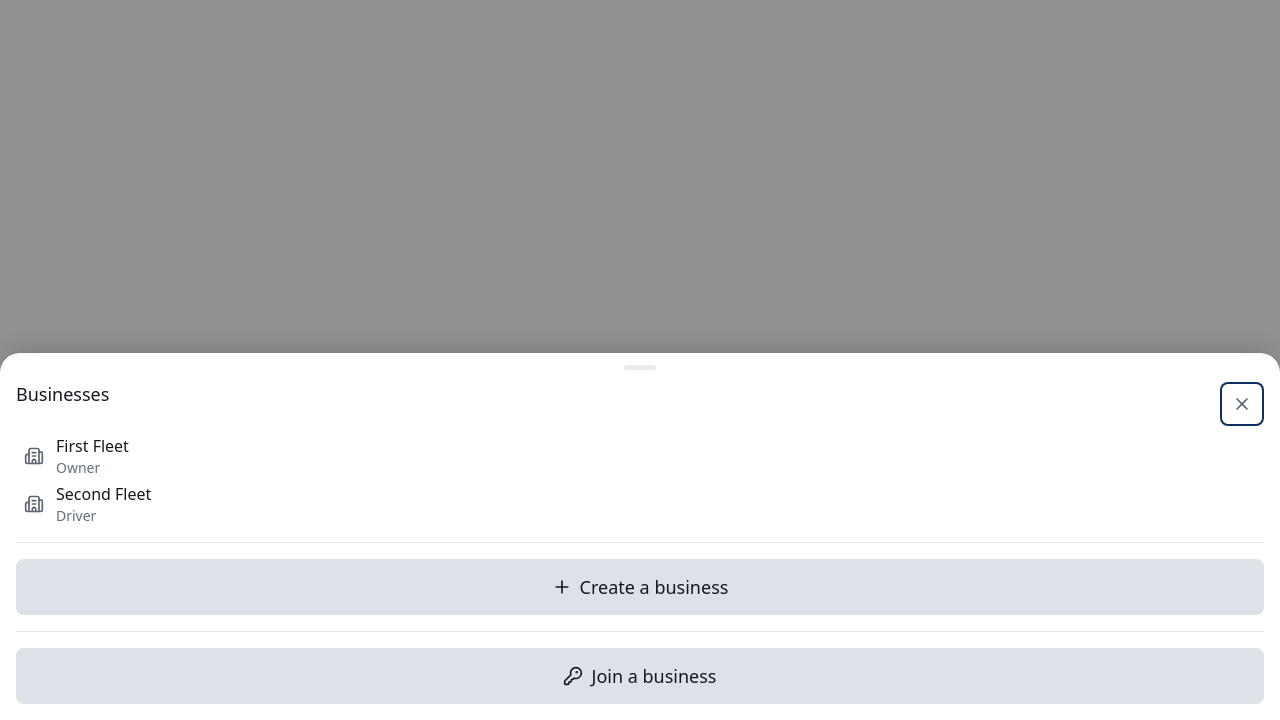
Test: GAP-157: opening Join a business collapses an already-open Create a business, and vice versa
The image size is (1280, 720).
Click the button "Create a business": (640, 587) [16,559,1264,615]
(page scrolled)
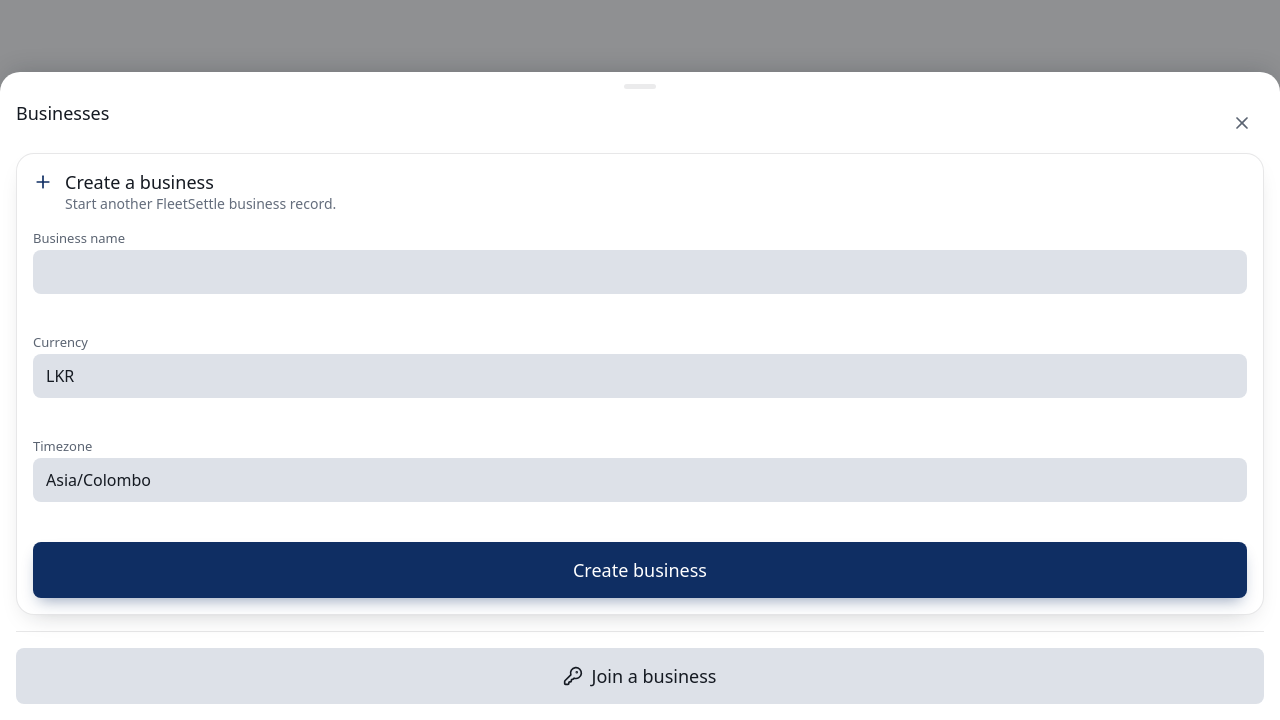
Now the field labelled "Business name" is shown, box [33,250,1247,294]
Click the button "Join a business": (640, 676) [16,648,1264,704]
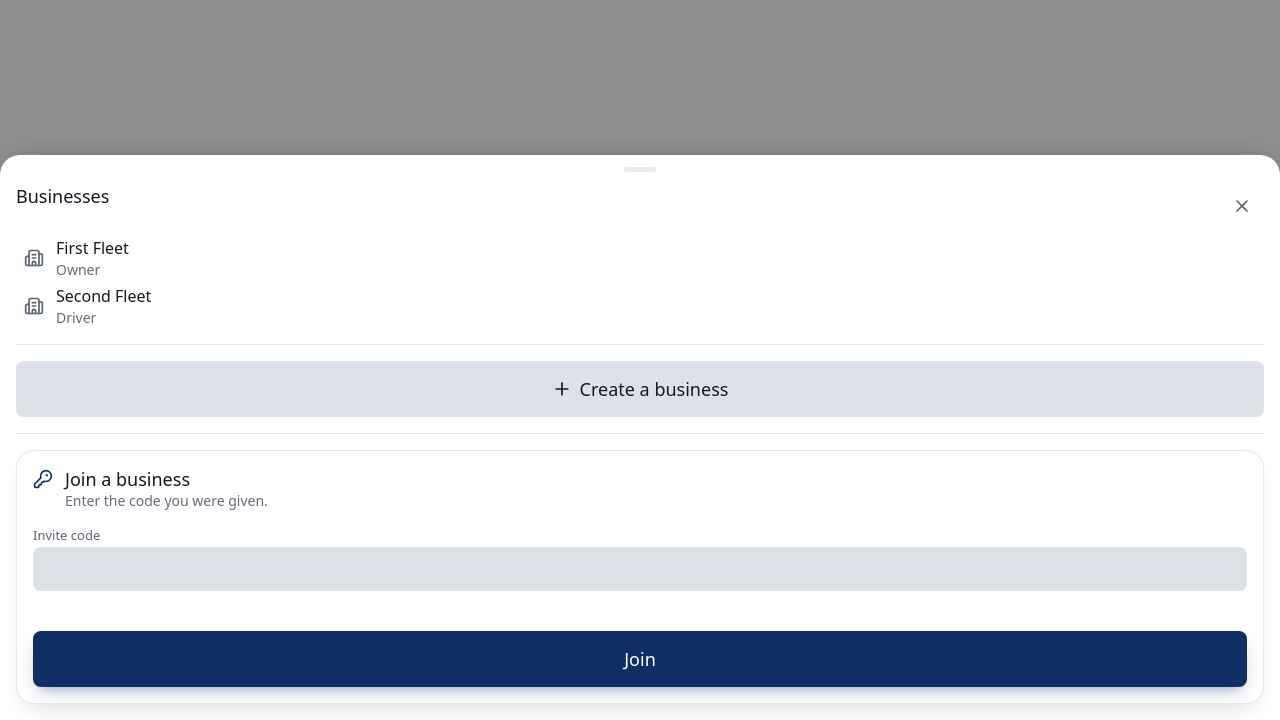
Now the label labelled "Business name" is gone
Now the field labelled "Invite code" is shown, box [33,547,1247,591]
